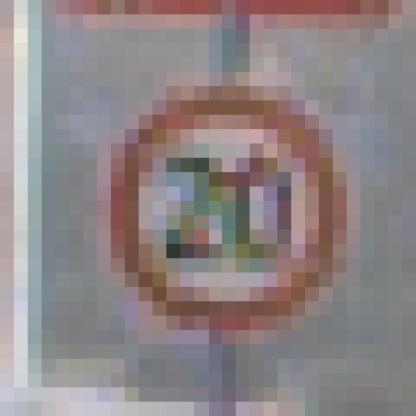Speed Limit 20: (118, 92, 341, 316)
